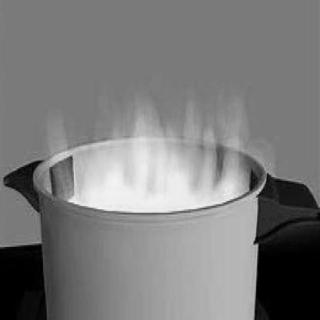Fire: (44, 82, 262, 218)
